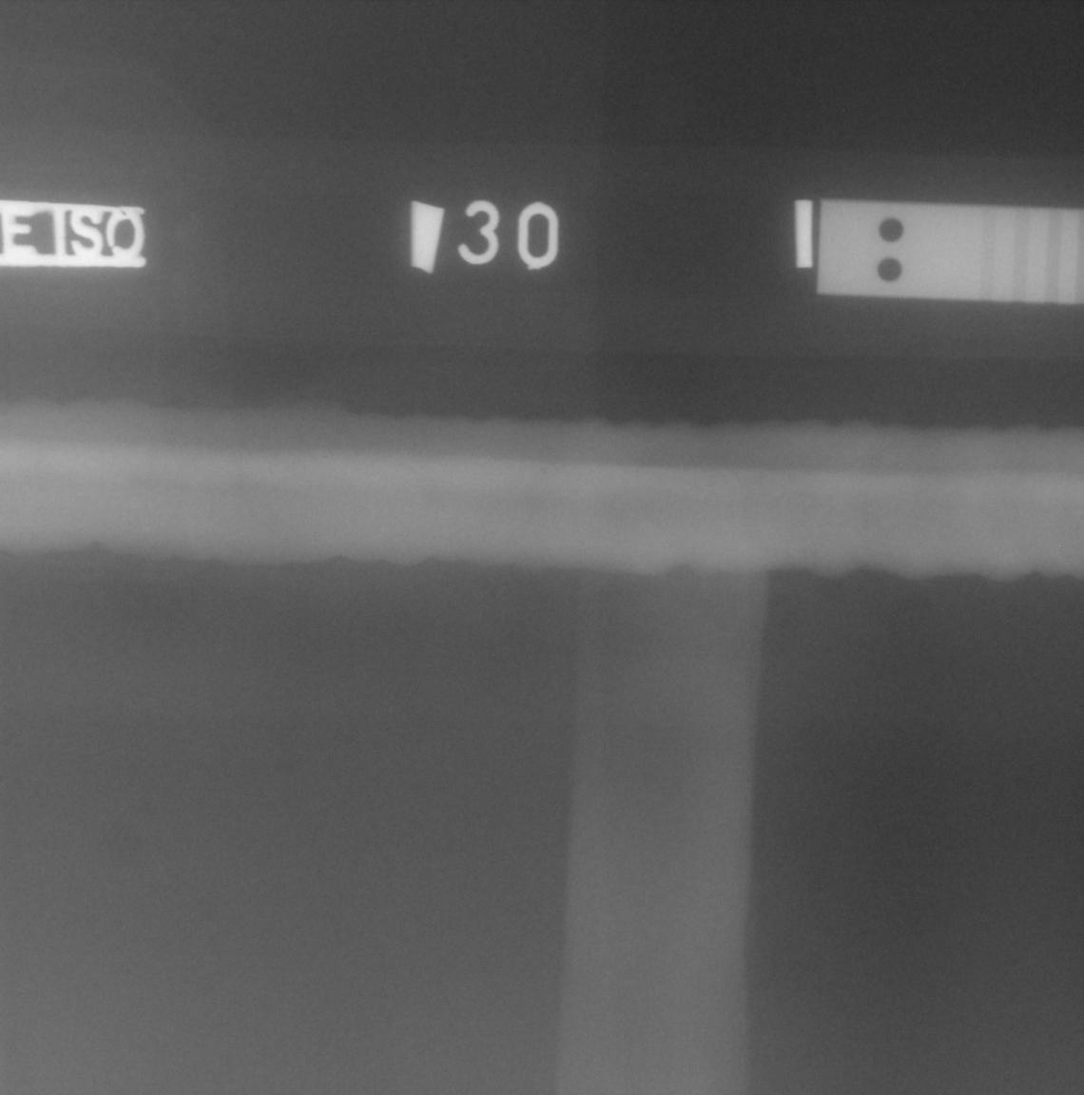Pore/Porosity: (538, 466, 550, 476)
